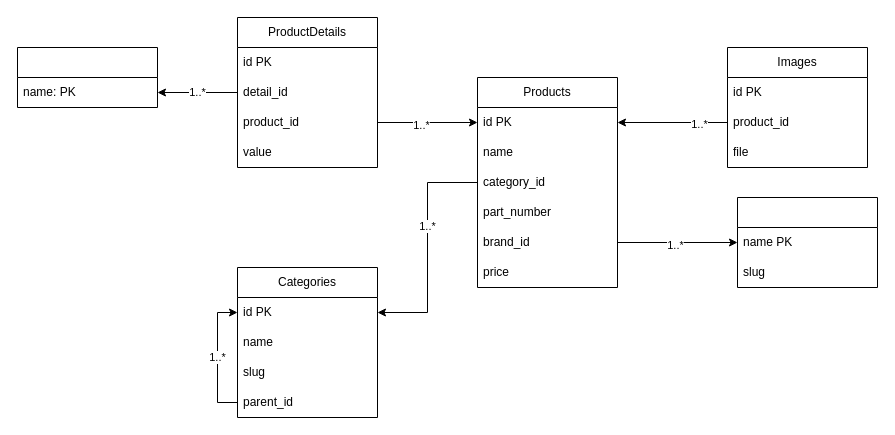
Image size: 895x435. Some labels were removed from this diagram. The shapes that lost their labels are listed below. From the top down, each one's box as (x1, y1, x2, y2) in pixels, then its label:
(16, 46, 158, 108): Details
(736, 196, 878, 288): Brands
